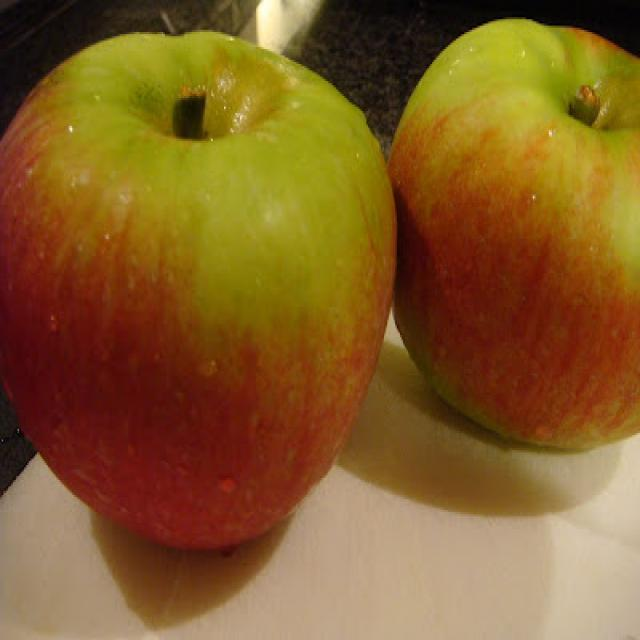Apple: (0, 26, 402, 548), (382, 15, 639, 458)
